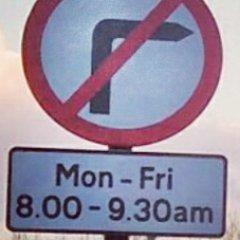no_right_turn: (20, 0, 222, 146)
